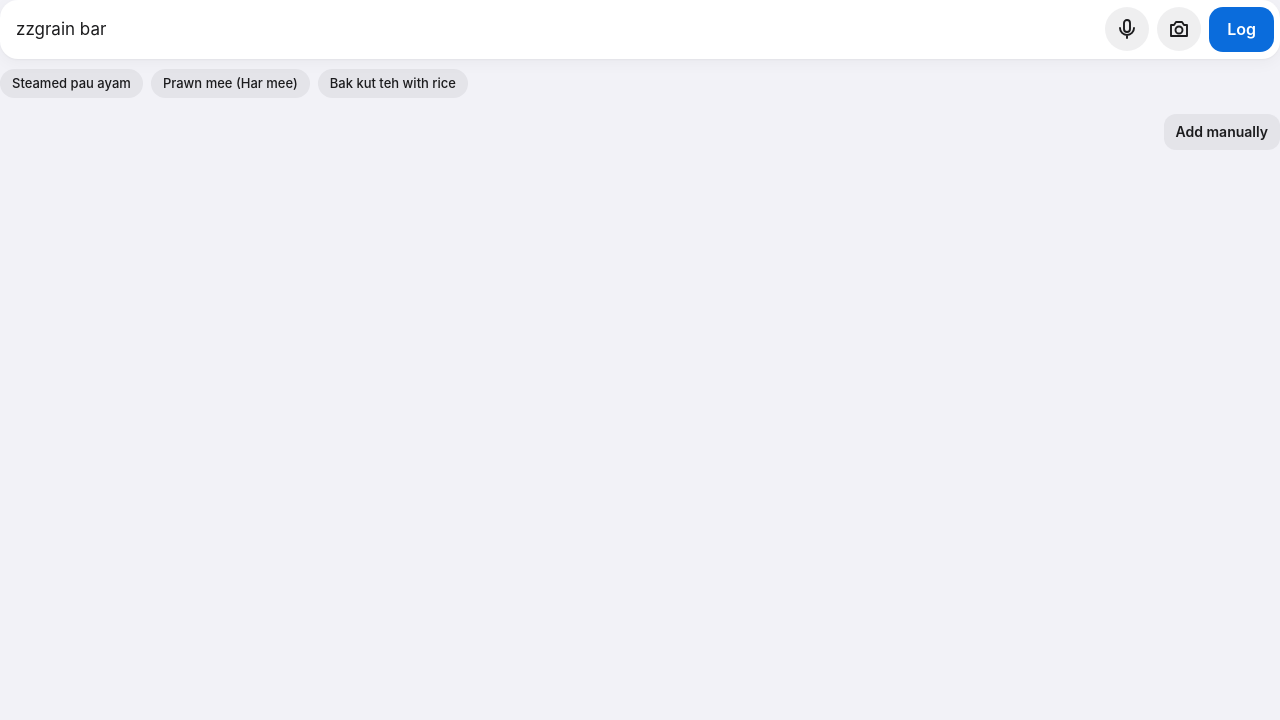
Log with a food we do not know › opens the review with the typed name, not an empty box
Step 1. Click the button "Log" → (1242, 30), box x1=1209 y1=7 x2=1274 y2=52
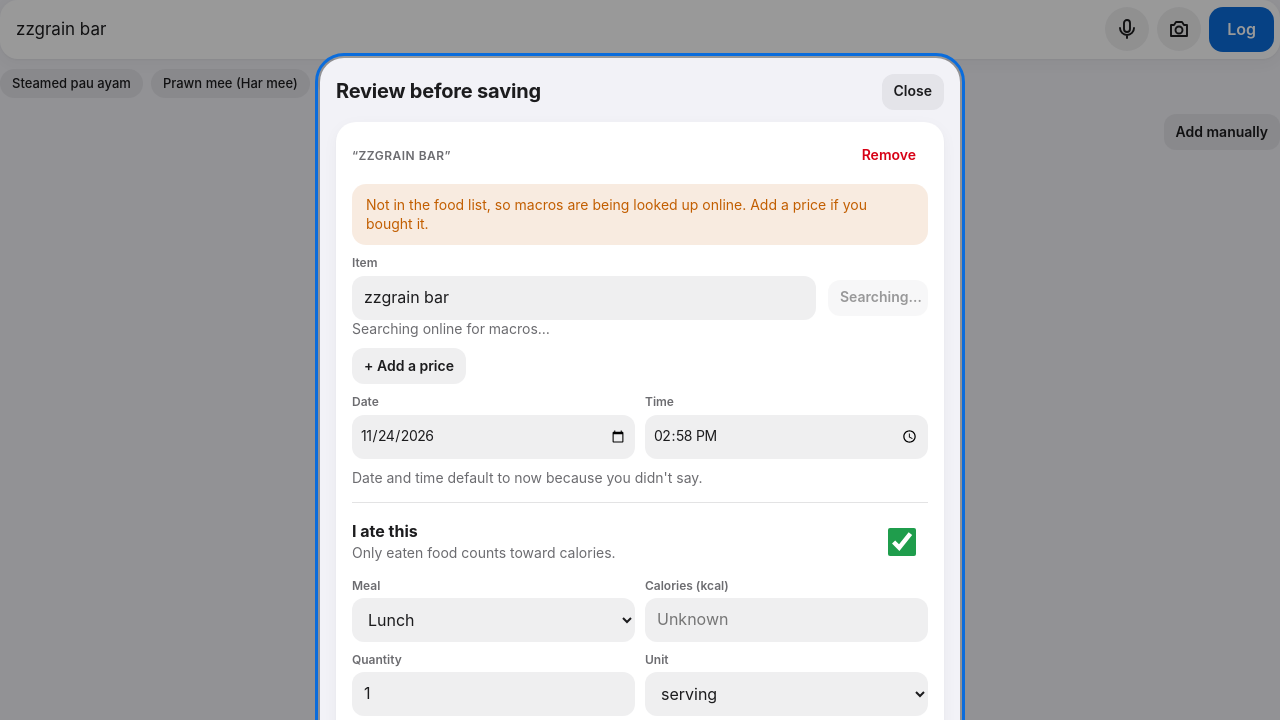
Expected: the field with placeholder "e.g. Nasi lemak" holds "zzgrain bar", x1=352 y1=276 x2=816 y2=320
Expected: the text "Not in the food list" is shown, x1=366 y1=196 x2=867 y2=232
